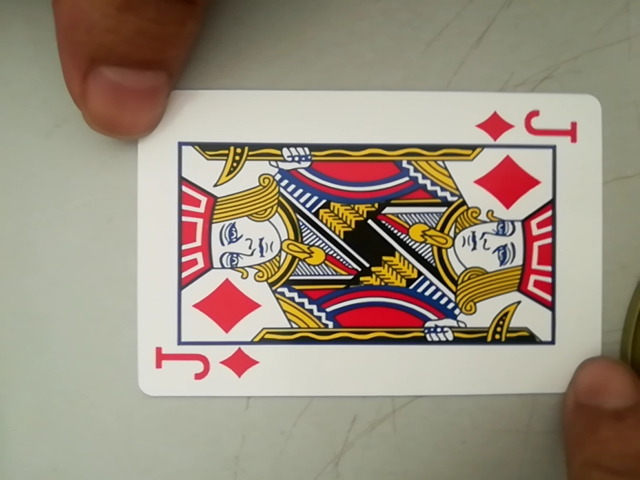fk j: (147, 340, 262, 390), (479, 106, 585, 146)
